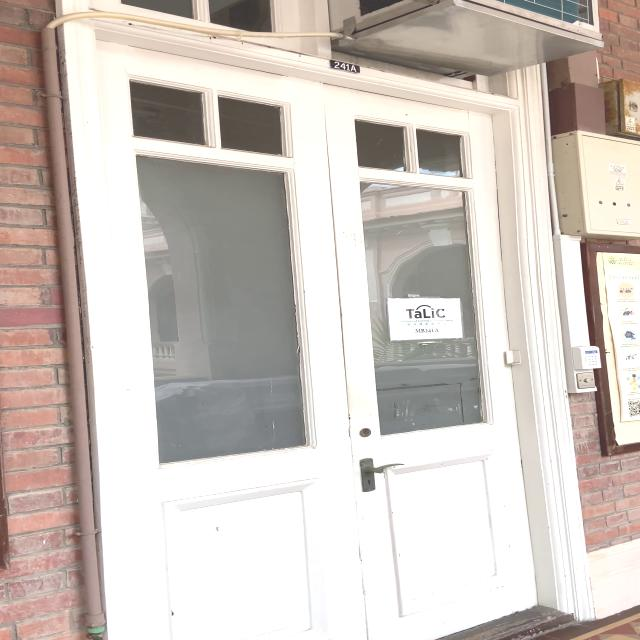room241a: (324, 58, 360, 76)
